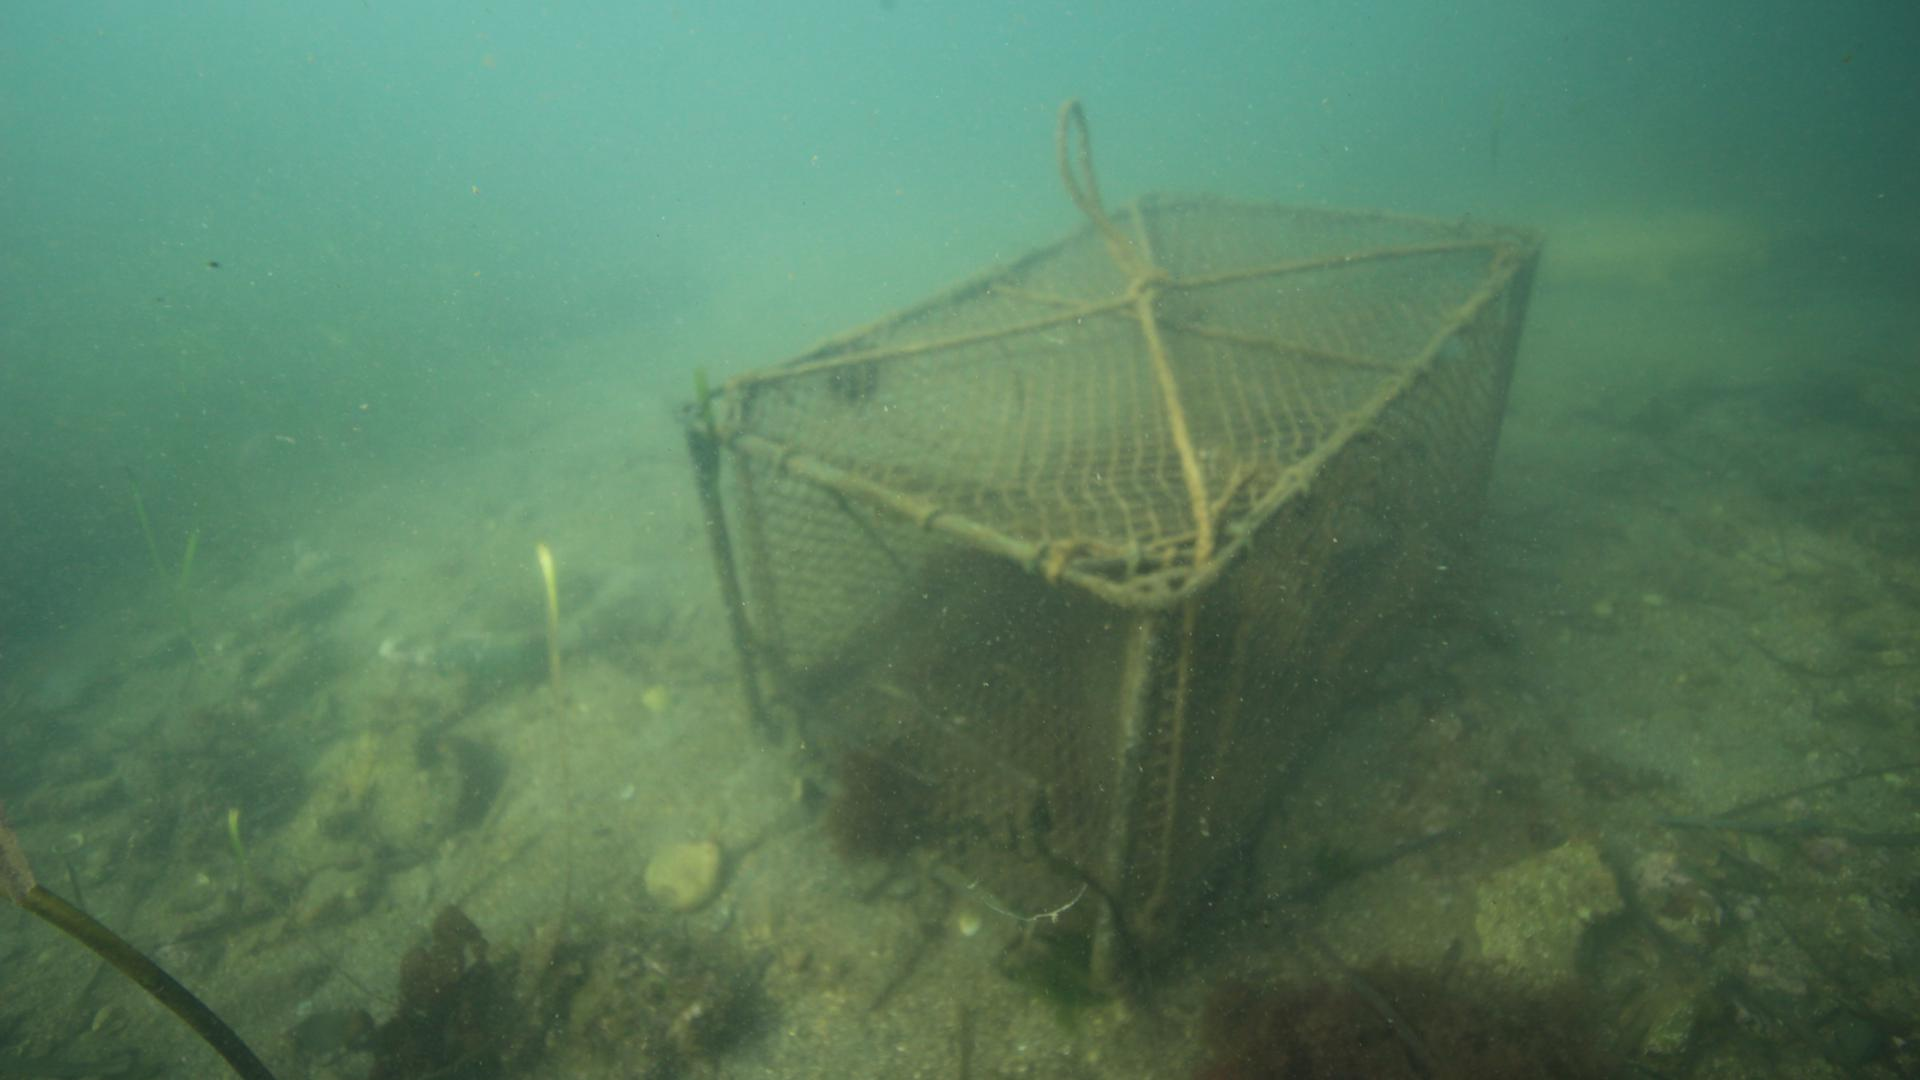bundle of ropes: (1048, 84, 1189, 225)
rectangular fish trap: (665, 179, 1549, 1001)
